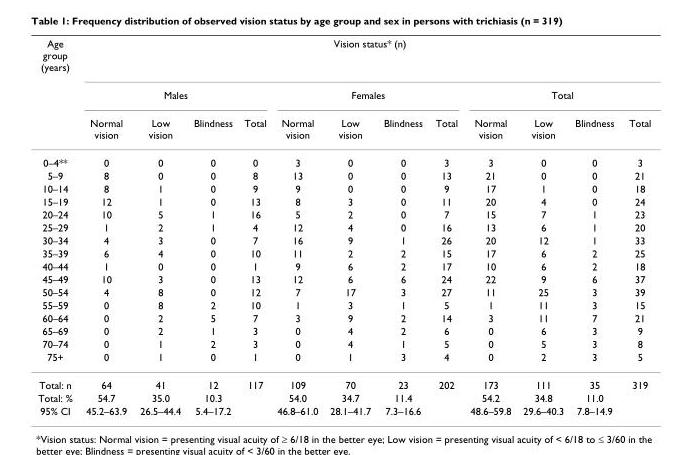table: (37, 37, 650, 416)
table column: (78, 37, 132, 416), (132, 37, 186, 416), (323, 37, 376, 416), (463, 37, 516, 416), (271, 37, 323, 416), (376, 37, 428, 416), (516, 37, 568, 416), (568, 37, 620, 416), (186, 37, 237, 416), (37, 37, 78, 416), (428, 37, 463, 416), (237, 37, 271, 416), (620, 37, 650, 416)
table column header: (37, 37, 650, 148)
table row: (37, 37, 650, 80), (37, 108, 650, 148), (37, 80, 650, 108), (37, 370, 650, 391), (37, 148, 650, 168), (37, 350, 650, 370), (37, 168, 650, 181), (37, 181, 650, 194), (37, 194, 650, 207), (37, 207, 650, 220), (37, 220, 650, 233), (37, 233, 650, 246), (37, 246, 650, 259), (37, 259, 650, 272), (37, 272, 650, 285), (37, 285, 650, 298), (37, 298, 650, 311), (37, 311, 650, 324), (37, 324, 650, 337), (37, 337, 650, 350), (37, 403, 650, 416), (37, 391, 650, 403)
table spanning cell: (78, 37, 650, 80), (78, 80, 271, 108), (271, 80, 463, 108), (463, 80, 650, 108), (37, 37, 78, 148)
